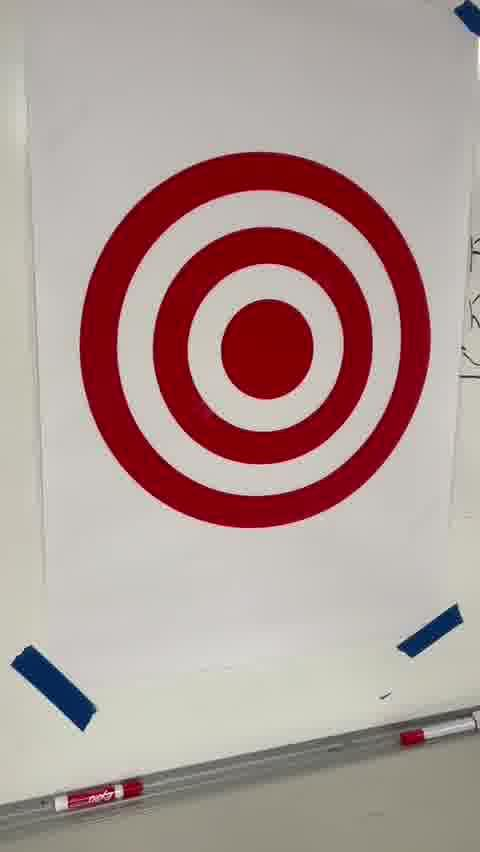target_red: (80, 149, 431, 530)
